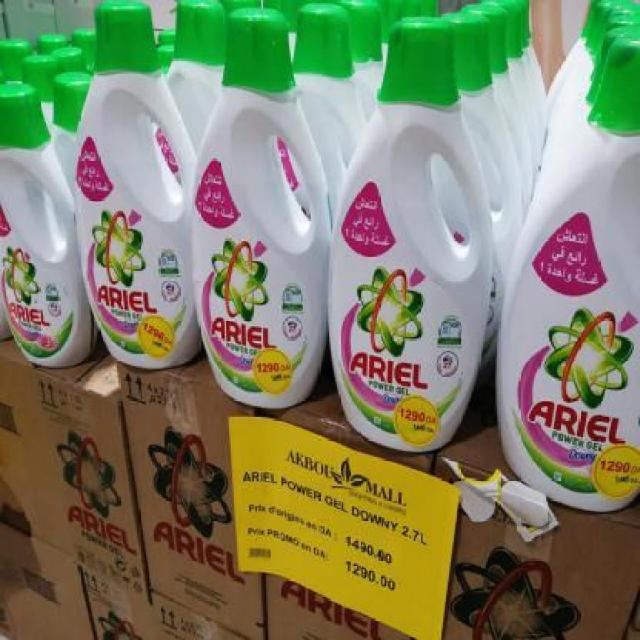Detergent: (319, 14, 486, 448), (498, 52, 640, 516), (177, 4, 326, 410), (65, 0, 200, 371), (0, 80, 92, 364)
